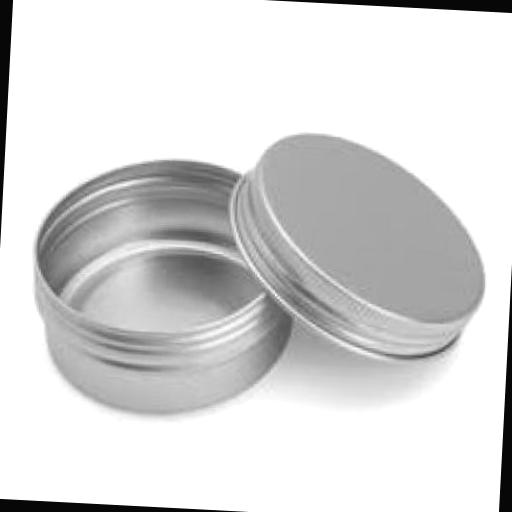metal: (20, 148, 298, 418), (218, 122, 492, 364)
